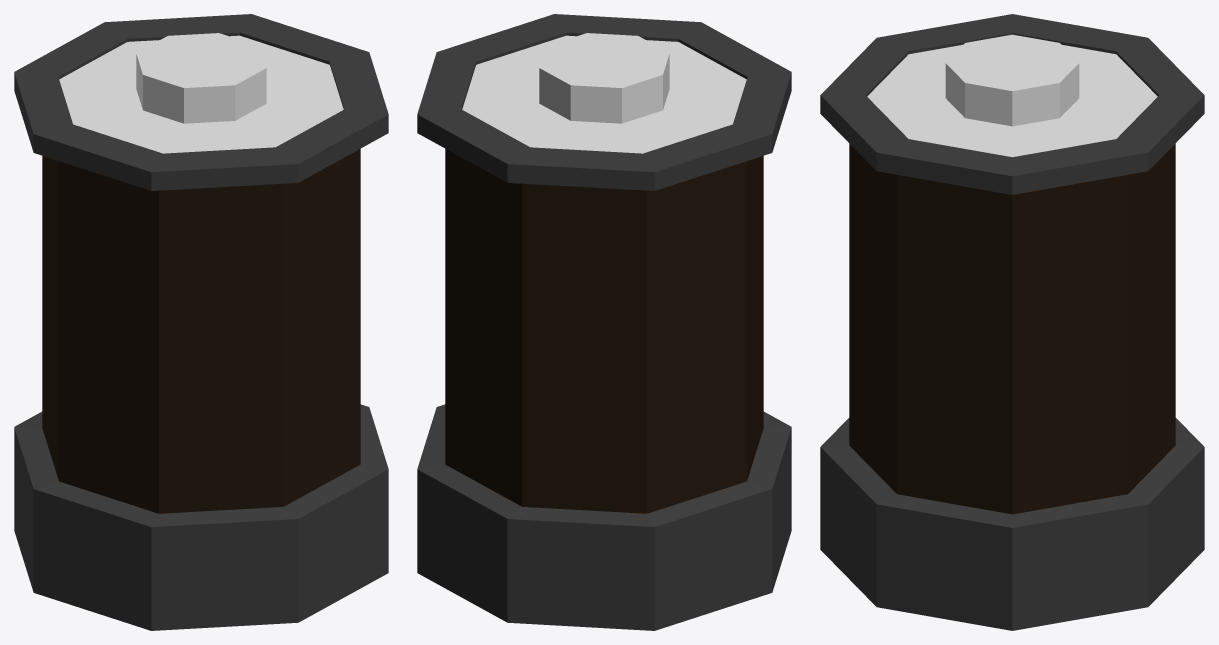
Rendered from Clasic_Battery.glb.
3 renders of one model, left to right at view 1: azimuth 30°, elevation 25°; view 2: azimuth 150°, elevation 25°; view 3: azimuth 270°, elevation 25°, orthographic.
Parts seen in each view (by area): view 1: Cylinder.001; view 2: Cylinder.001; view 3: Cylinder.001.
Boxes of the visible parts, <box> form: Cylinder.001: <box>14,14,388,630</box>; Cylinder.001: <box>417,14,791,630</box>; Cylinder.001: <box>820,14,1204,630</box>.
Bounding box in the file's own units: 2.65 × 3.81 × 2.65.
